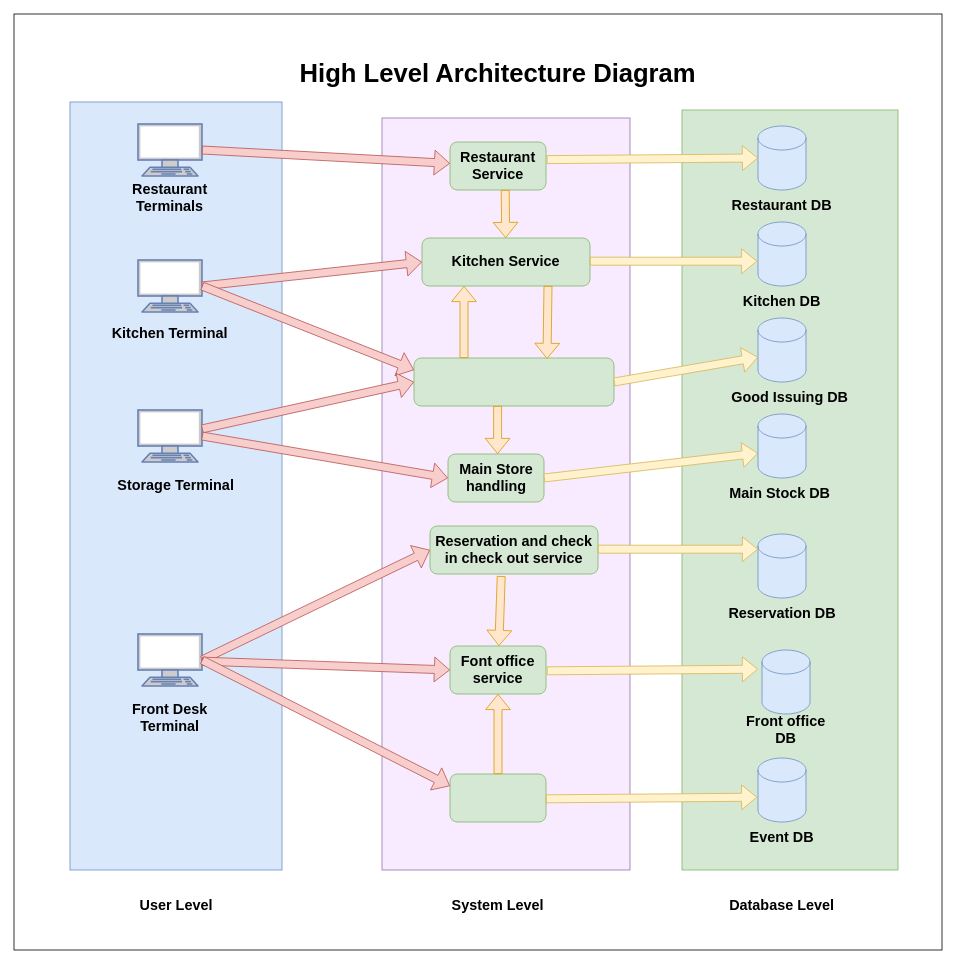
This 956x964 diagram has some shape labels left out. The centre of each missing label's shape, as x and y in pixels:
Event service: point (497, 797)
Good Issuing & Reordering service: point (513, 381)
